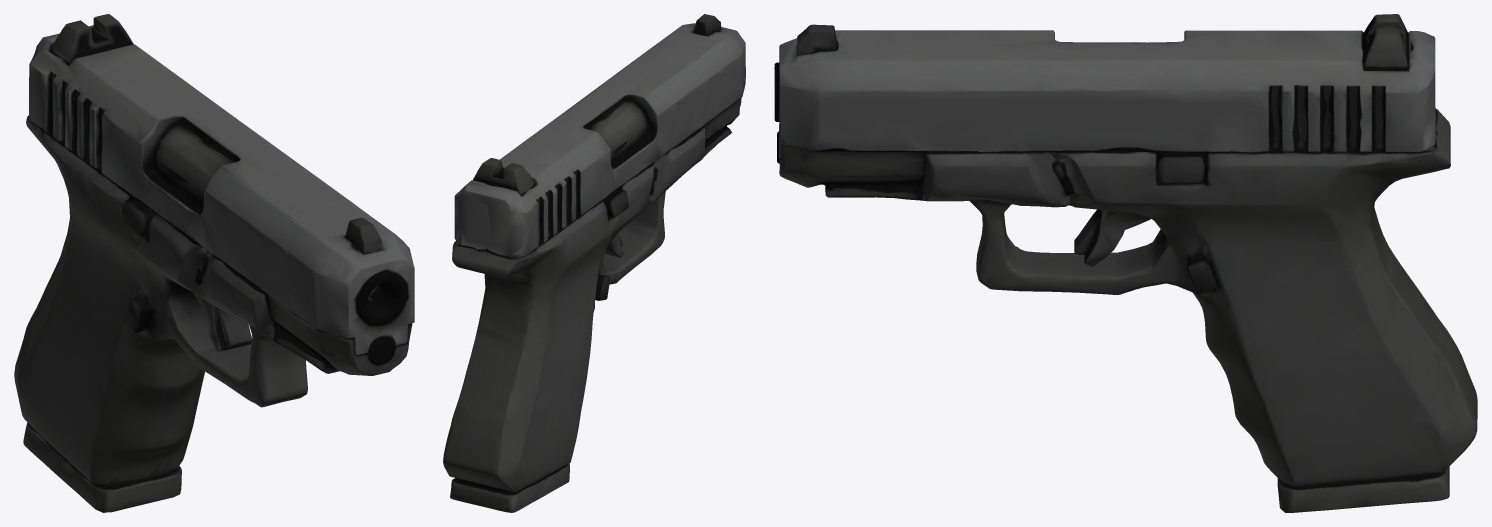
The model's file is h1_compact.glb.
3 renders of one model, left to right at view 1: azimuth 30°, elevation 25°; view 2: azimuth 150°, elevation 25°; view 3: azimuth 270°, elevation 25°, orthographic. The views are drawn at different scales.
Parts seen in each view (by area): view 1: body; view 2: body; view 3: body.
Boxes of the visible parts, x1,y1,x2,y2 form: body: (14, 14, 414, 512); body: (443, 14, 745, 512); body: (774, 14, 1477, 512).
Bounding box in the file's own units: 0.0386 × 0.1369 × 0.186.
1 material, 1 textured.
